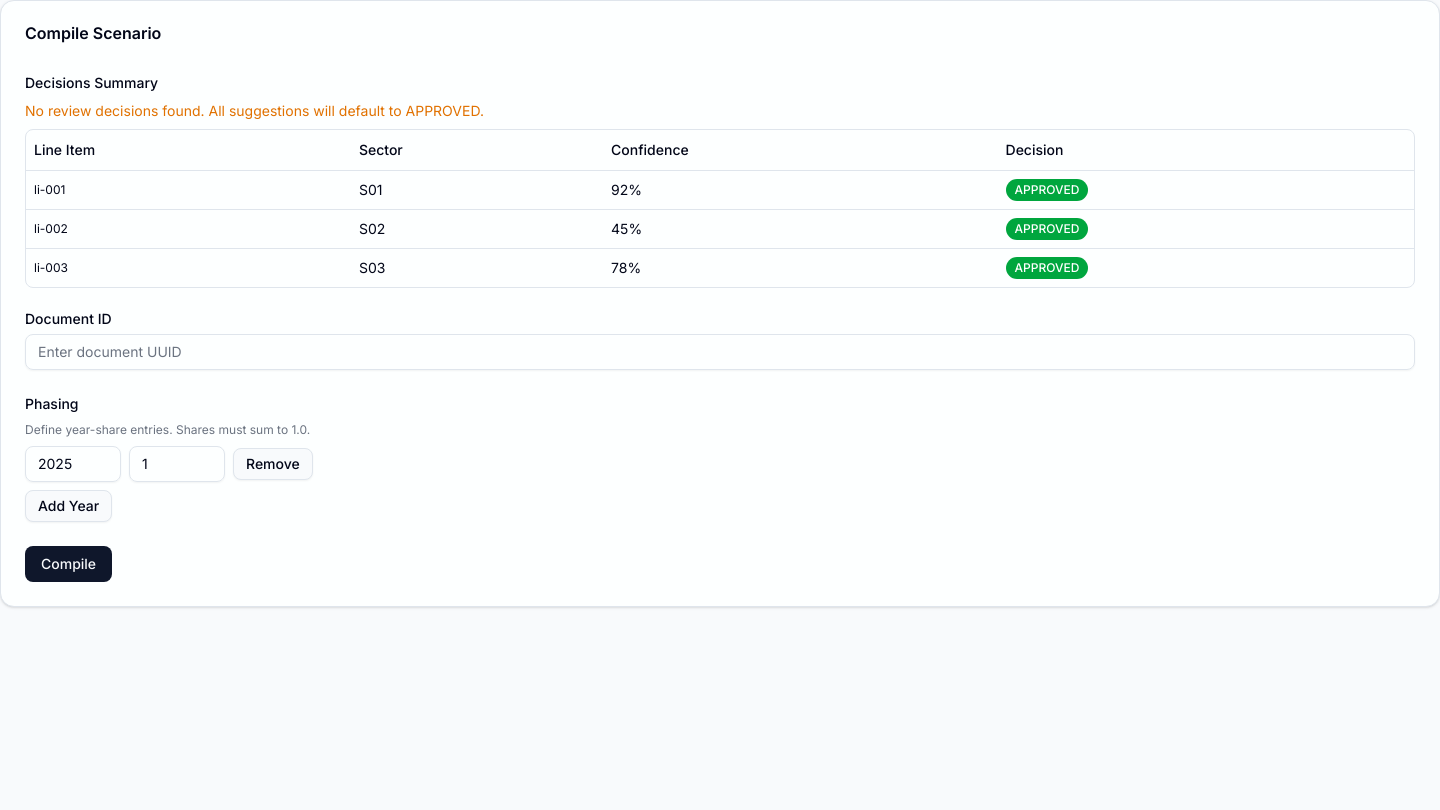
Scenario: ScenarioCompileForm › with compilationId and cached data › shows shock items table after successful compile
Click the button "Compile". click: point(69, 564)
box: x1=25 y1=546 x2=112 y2=582
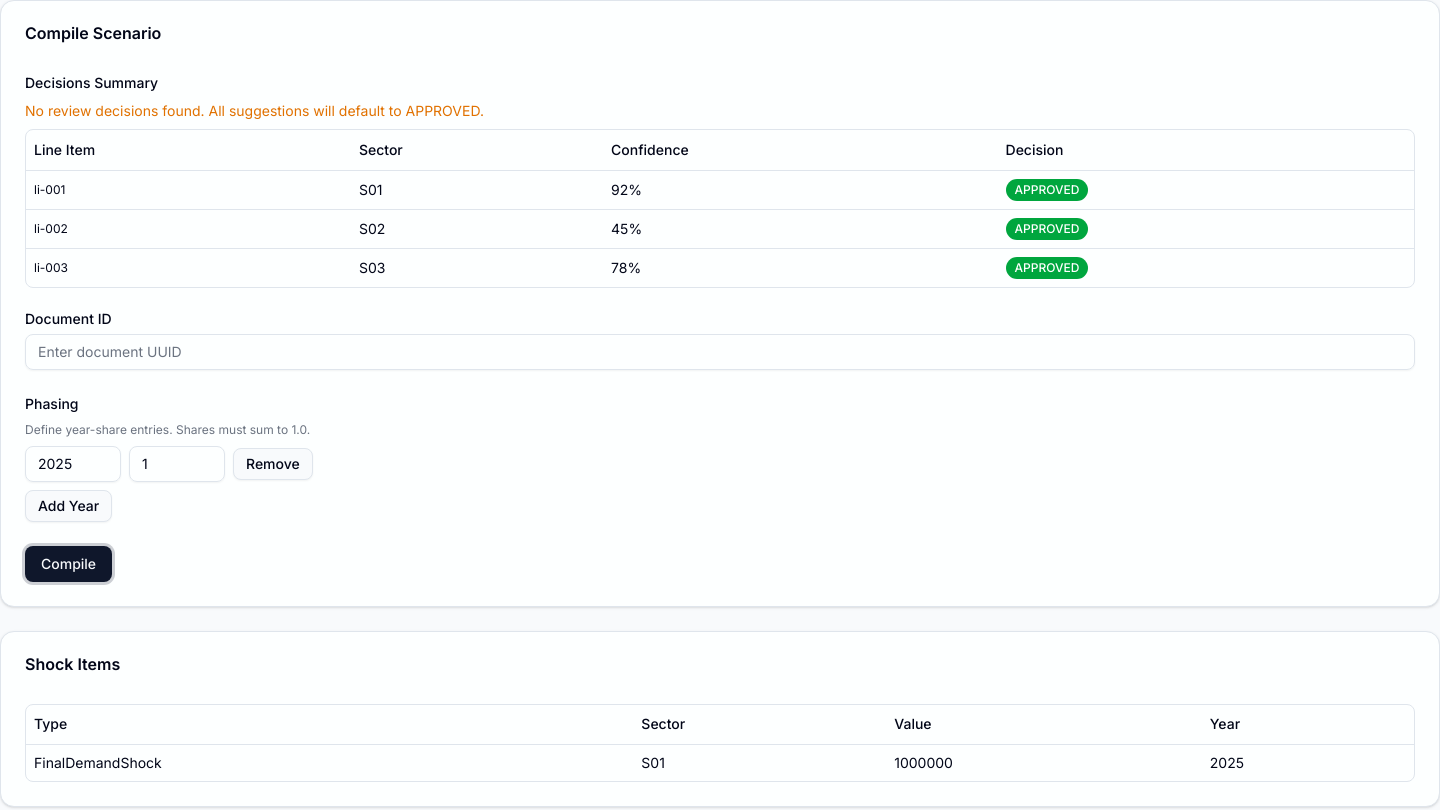
Expected: the text "FinalDemandShock" is shown, x1=26 y1=744 x2=633 y2=781
Expected: the text "1000000" is shown, x1=886 y1=744 x2=1202 y2=781
